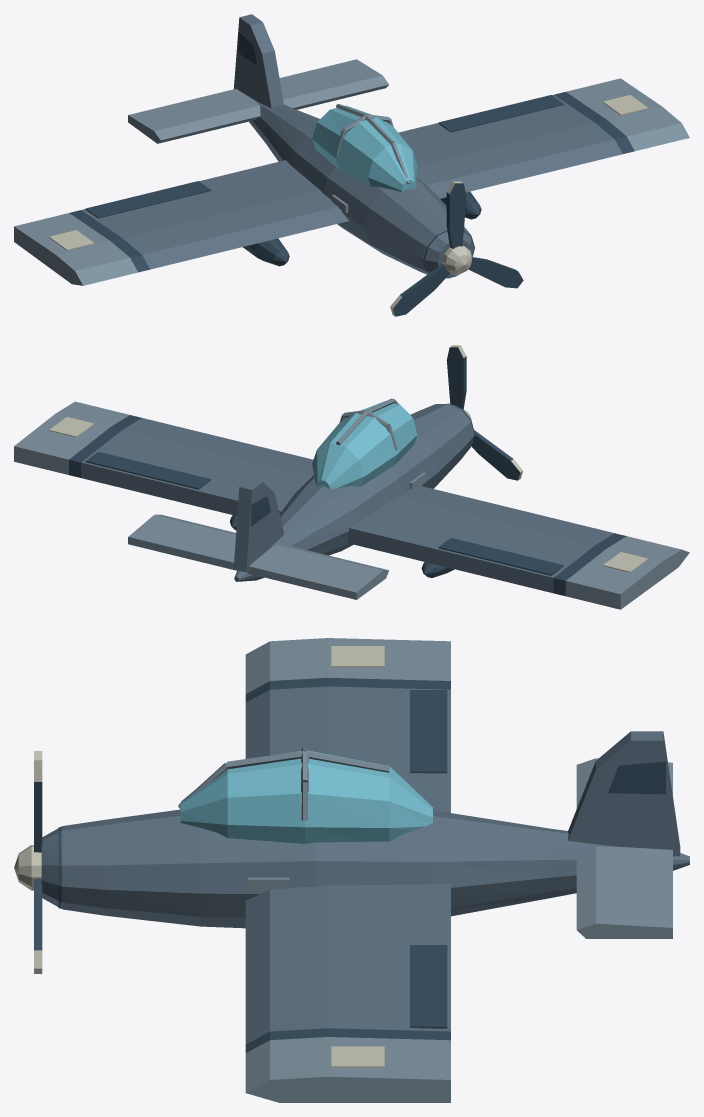
3 views of the same model, one above another, from view 1: azimuth 30°, elevation 25°; view 2: azimuth 150°, elevation 25°; view 3: azimuth 270°, elevation 25° (orthographic). The views are drawn at different scales.
Parts seen in each view (by area): view 1: airframe, propeller; view 2: airframe, propeller; view 3: airframe, propeller.
Boxes of the visible parts, left/top/right/bottom form: airframe: left=14, top=14, right=689, bottom=285; propeller: left=390, top=181, right=523, bottom=316; airframe: left=14, top=398, right=689, bottom=609; propeller: left=446, top=345, right=522, bottom=480; airframe: left=41, top=638, right=689, bottom=1102; propeller: left=14, top=751, right=42, bottom=973.
Size of the model in its own units: 8.6 by 1.82 by 5.6.
